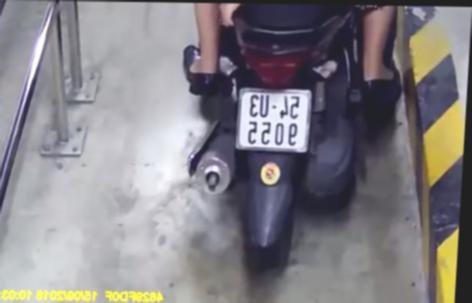License_Plate: (230, 82, 323, 162)
